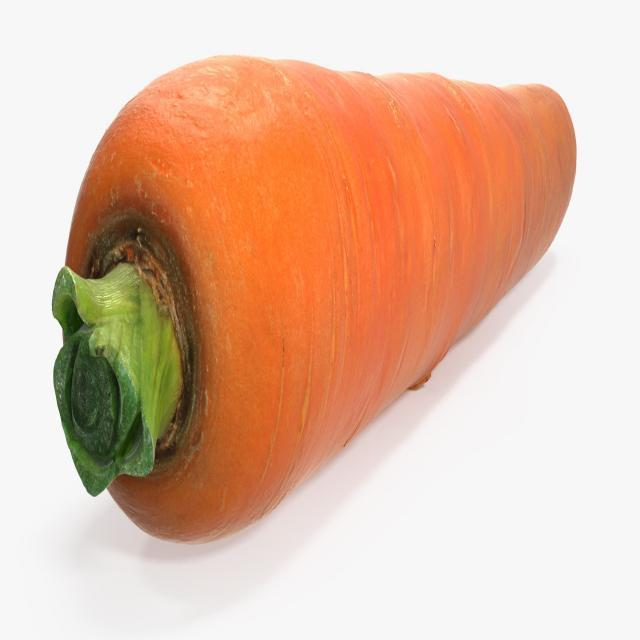carrot: (46, 51, 584, 552)
